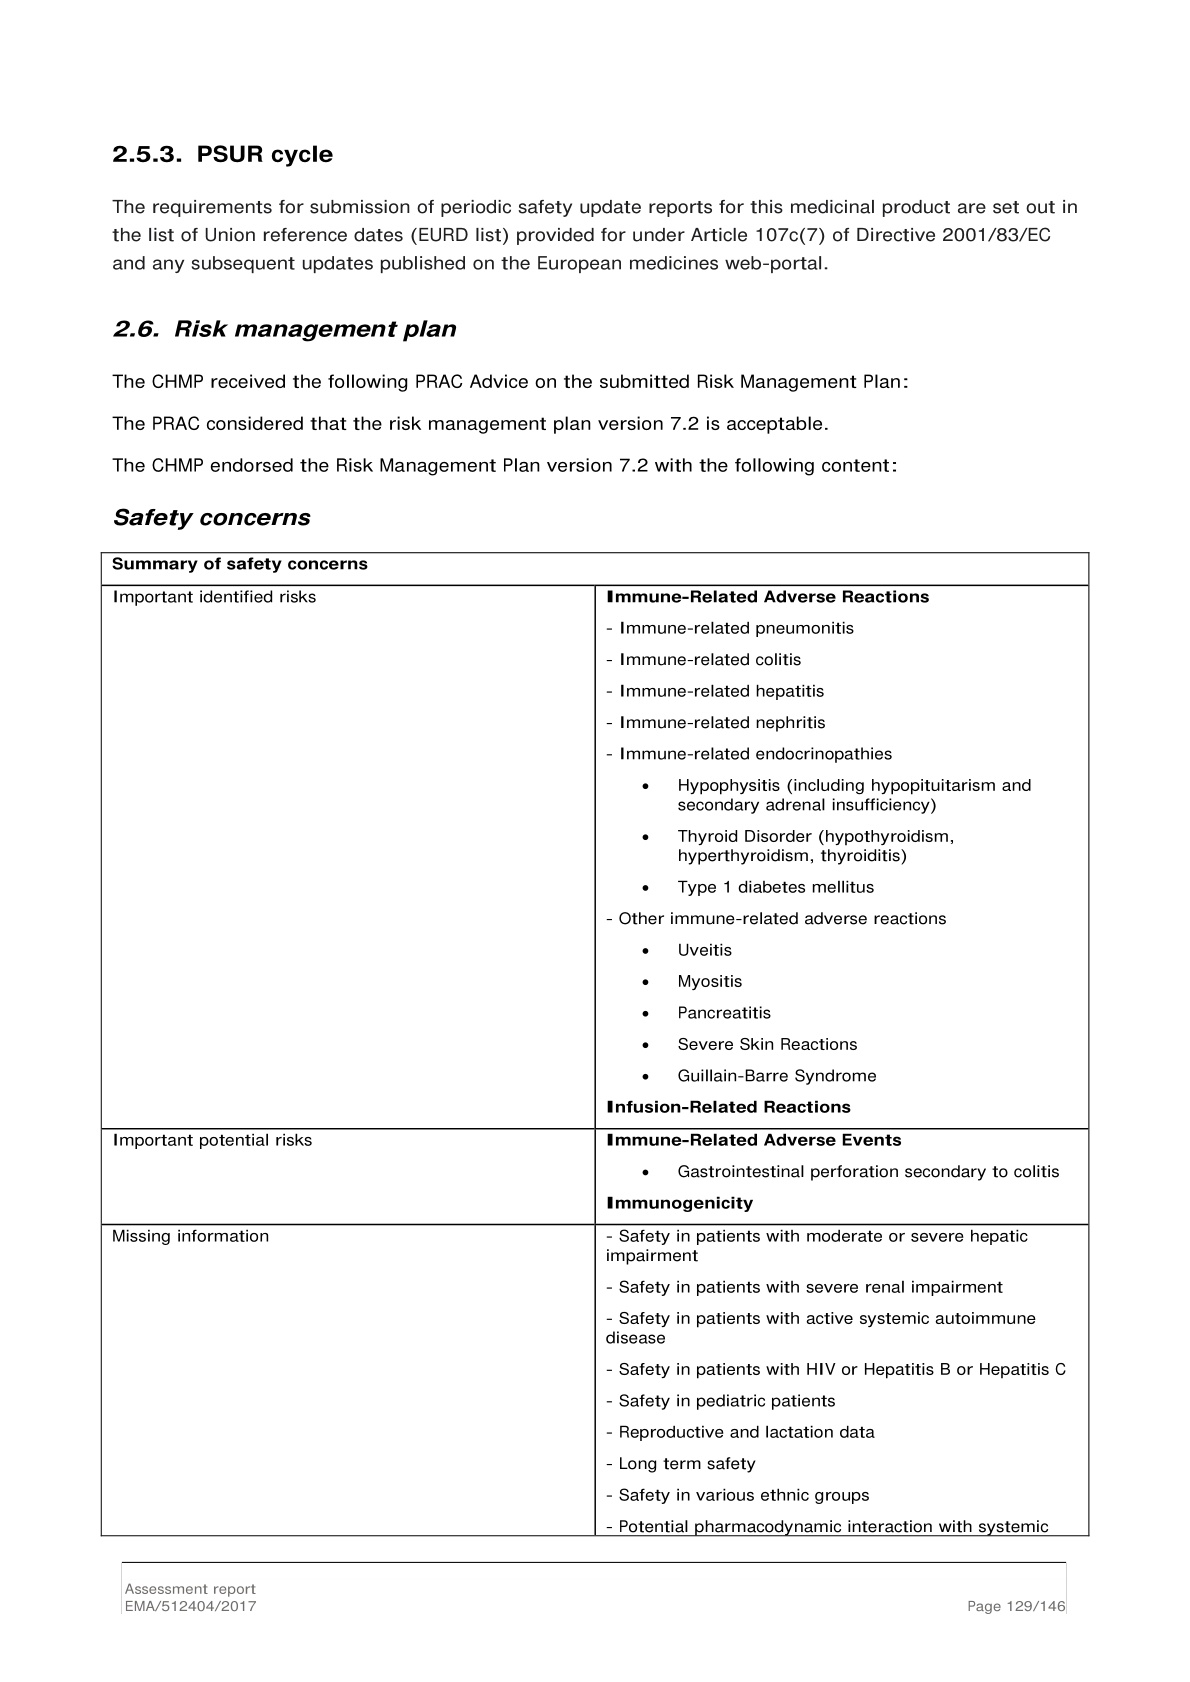merged_cells: (99, 550, 1091, 1539)
